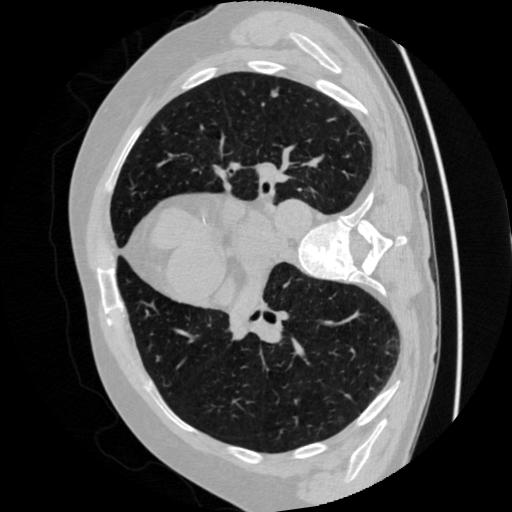nodule: (268, 87, 282, 101)
